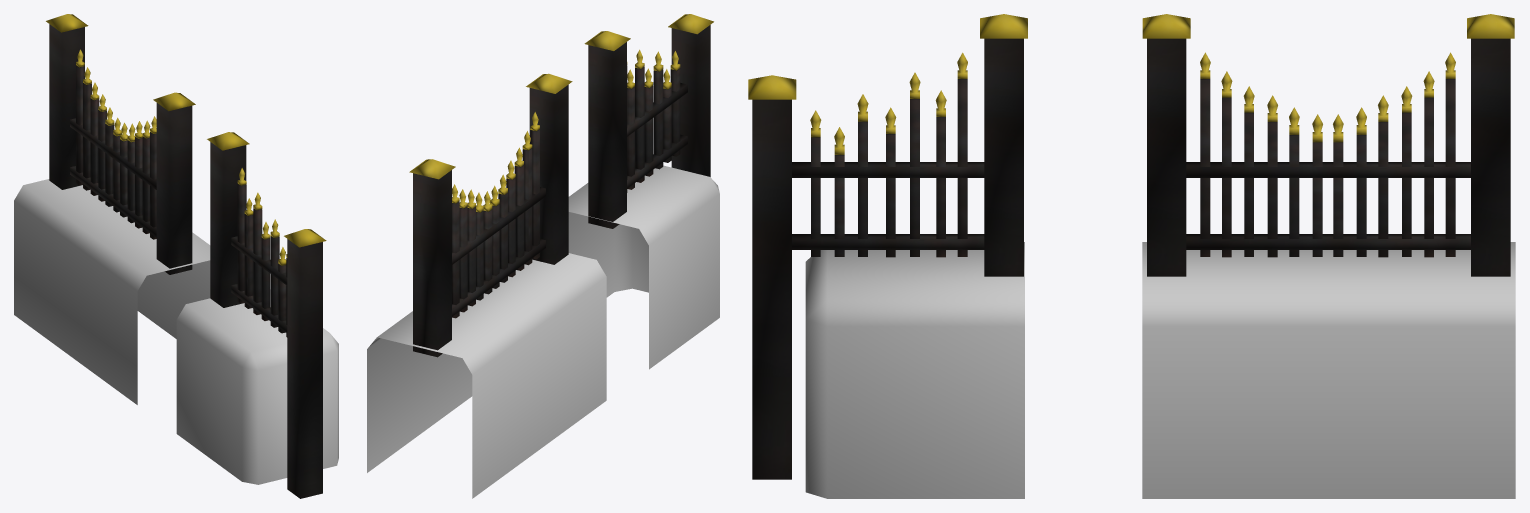
The model's file is StoneMetalWall.fbx.
3 renders of one model, left to right at view 1: azimuth 30°, elevation 25°; view 2: azimuth 150°, elevation 25°; view 3: azimuth 270°, elevation 25°, orthographic. The views are drawn at different scales.
Visible parts, largest first — view 1: StoneMetal_Center, StoneMetal_Corner; view 2: StoneMetal_Center, StoneMetal_Corner; view 3: StoneMetal_Center, StoneMetal_Corner.
Boxes of the visible parts, x1=… form: StoneMetal_Center: x1=14, y1=14, x2=210, y2=404; StoneMetal_Corner: x1=176, y1=132, x2=338, y2=498; StoneMetal_Center: x1=367, y1=73, x2=606, y2=498; StoneMetal_Corner: x1=568, y1=14, x2=719, y2=369; StoneMetal_Center: x1=1142, y1=14, x2=1515, y2=498; StoneMetal_Corner: x1=748, y1=14, x2=1027, y2=498.
Bounding box in the file's own units: 427 × 1275 × 1938.
